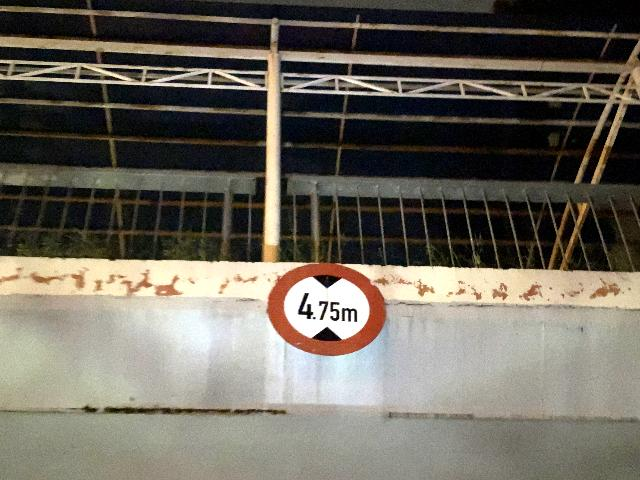han-che-chieu-cao: (268, 263, 386, 357)
